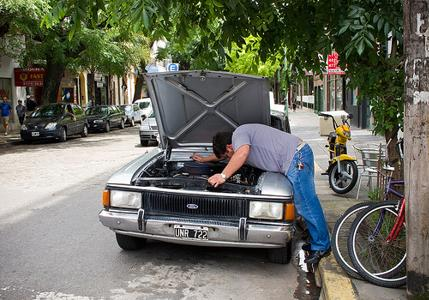person: (190, 123, 333, 264)
